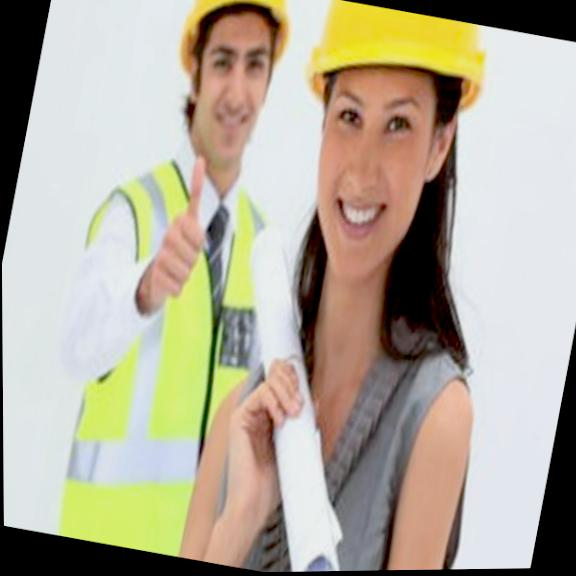no_safety_vest: (214, 329, 471, 573)
safety_vest: (37, 156, 289, 566)
